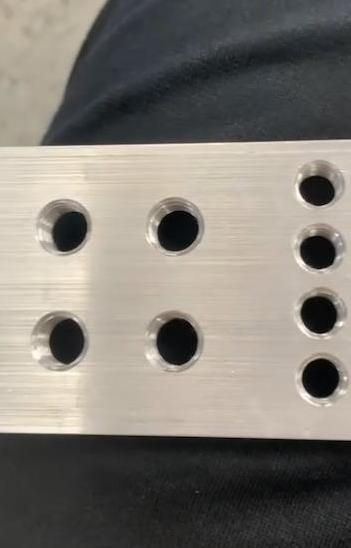hole: (143, 305, 209, 376), (142, 193, 208, 260), (26, 310, 88, 374), (290, 348, 351, 410), (34, 200, 94, 258), (294, 287, 350, 340), (291, 223, 348, 275), (290, 159, 346, 210)
